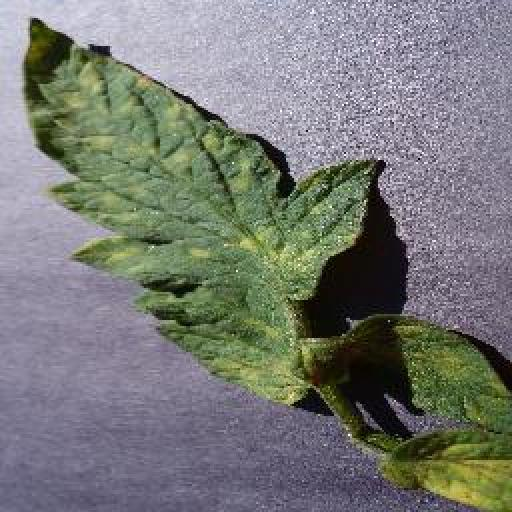Leaf Mold: (23, 14, 384, 410), (378, 432, 512, 512)
